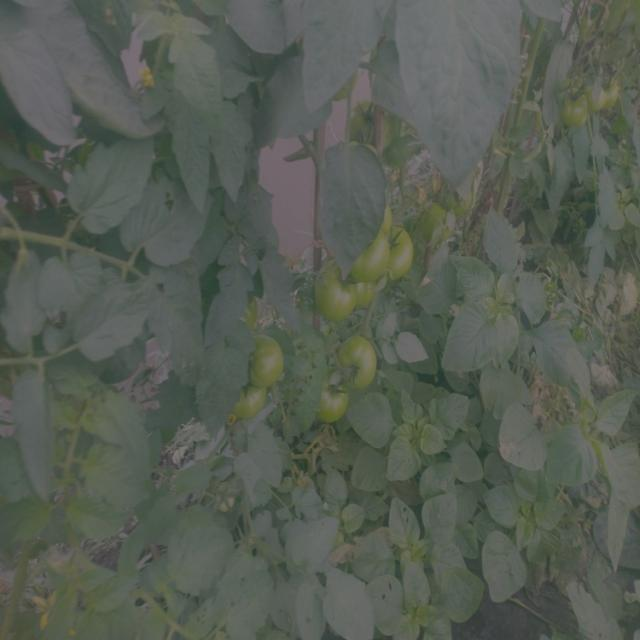tomato: (333, 334, 385, 393), (245, 332, 292, 389), (317, 265, 361, 325), (347, 232, 390, 286), (559, 87, 595, 133), (315, 384, 353, 427), (390, 230, 418, 284), (593, 75, 623, 116), (418, 201, 447, 240), (236, 388, 267, 420), (353, 103, 377, 139), (376, 199, 397, 228)
